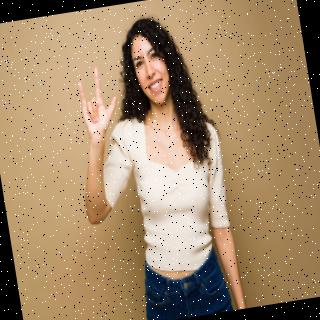I Love You: (67, 53, 128, 147)
